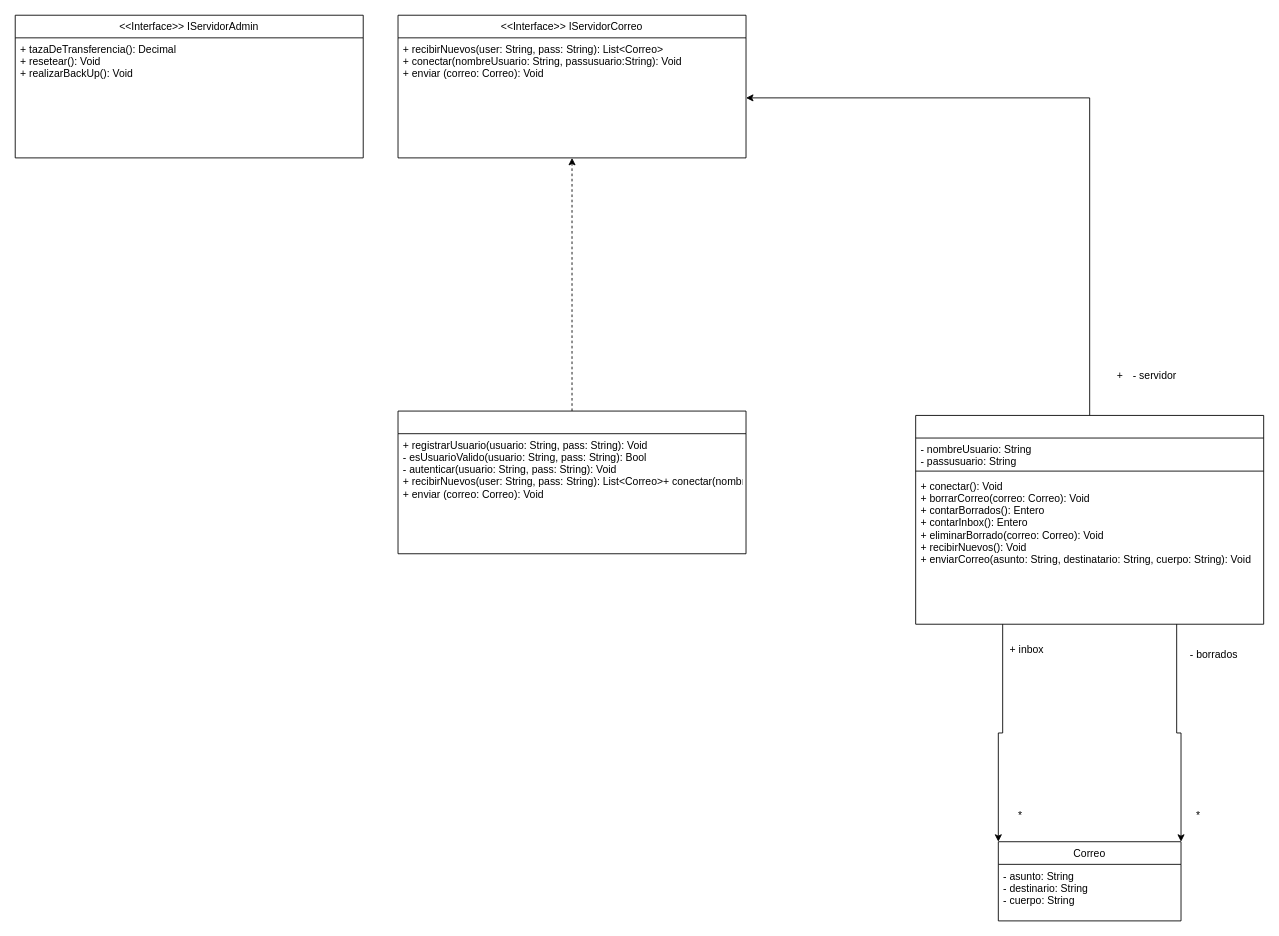
Image size: 1279x936. Some labels were removed from this diagram. The shapes that lost their labels are listed below. From the top down, each one's box as (x1, y1, x2, y2) in pixels, then its label:
(397, 410, 746, 554): ServidorPop
(915, 415, 1264, 624): ClienteEMail
